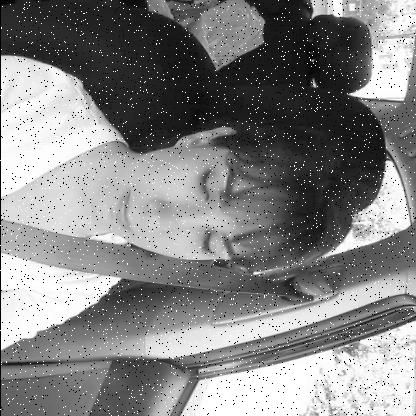seatbelt: (0, 89, 382, 286)
